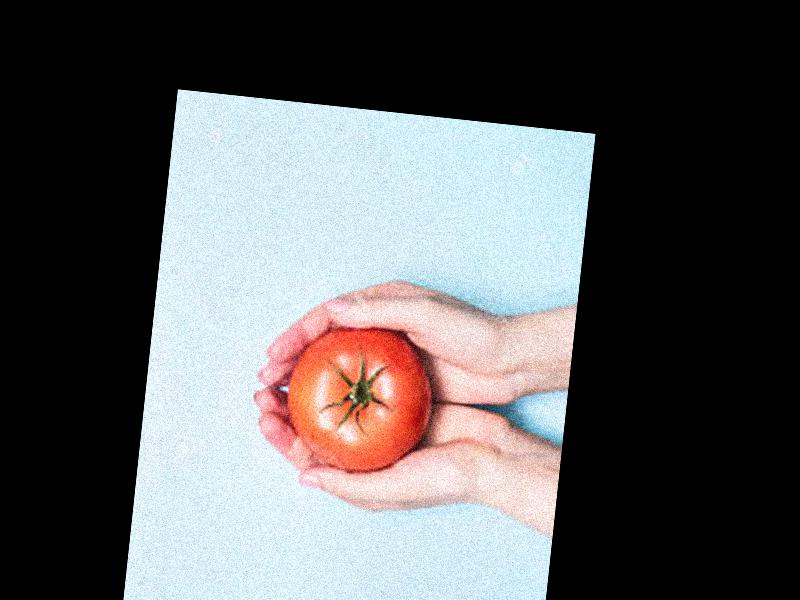Tomato: (281, 316, 438, 478)
